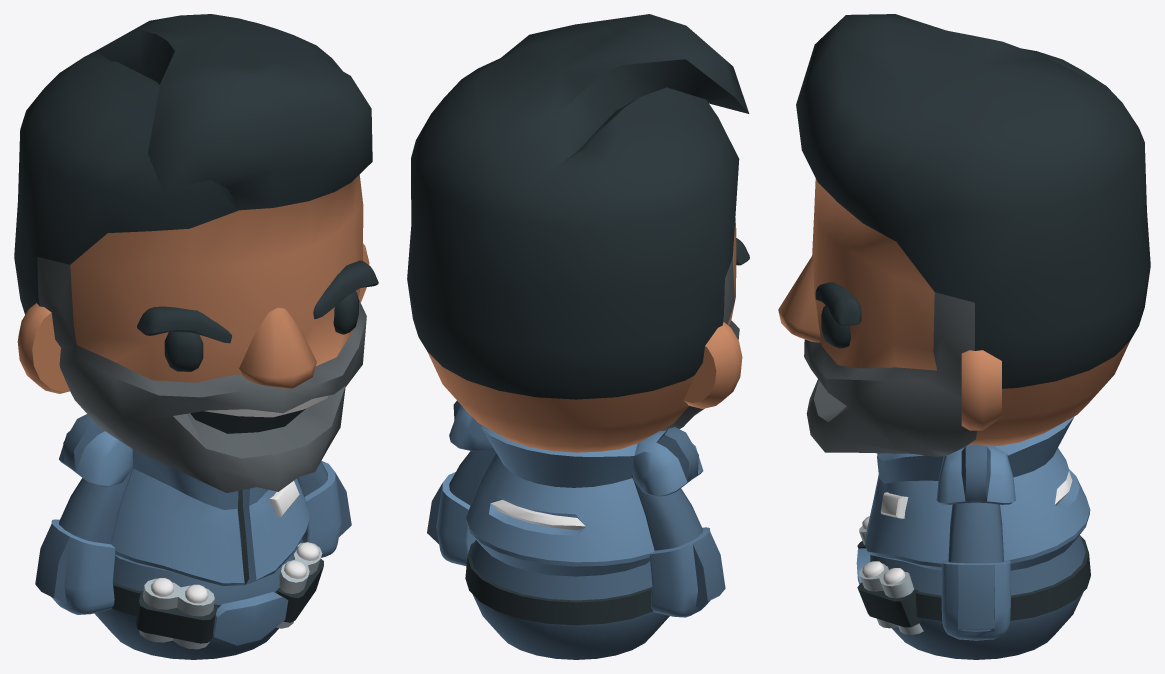
Rendered from character_spaceSoldier.fbx.
3 views of the same model, side by side, from view 1: azimuth 30°, elevation 25°; view 2: azimuth 150°, elevation 25°; view 3: azimuth 270°, elevation 25° (orthographic). The views are drawn at different scales.
Visible parts, largest first — view 1: character_spaceSoldierHeadA, character_spaceSoldierBody, character_spaceSoldierArmRight, character_spaceSoldierArmLeft; view 2: character_spaceSoldierHeadA, character_spaceSoldierBody, character_spaceSoldierArmRight, character_spaceSoldierArmLeft; view 3: character_spaceSoldierHeadA, character_spaceSoldierBody, character_spaceSoldierArmLeft.
Boxes of the visible parts, x1,y1,x2,y2 form: character_spaceSoldierHeadA: [14, 14, 378, 492]; character_spaceSoldierBody: [59, 414, 323, 659]; character_spaceSoldierArmRight: [35, 467, 133, 614]; character_spaceSoldierArmLeft: [297, 461, 351, 557]; character_spaceSoldierHeadA: [407, 14, 749, 452]; character_spaceSoldierBody: [449, 401, 703, 659]; character_spaceSoldierArmRight: [632, 474, 725, 617]; character_spaceSoldierArmLeft: [427, 448, 497, 566]; character_spaceSoldierHeadA: [778, 14, 1150, 456]; character_spaceSoldierBody: [856, 416, 1090, 659]; character_spaceSoldierArmLeft: [941, 502, 1010, 640].
Size of the model in its own units: 1.18 by 1.96 by 1.13.
